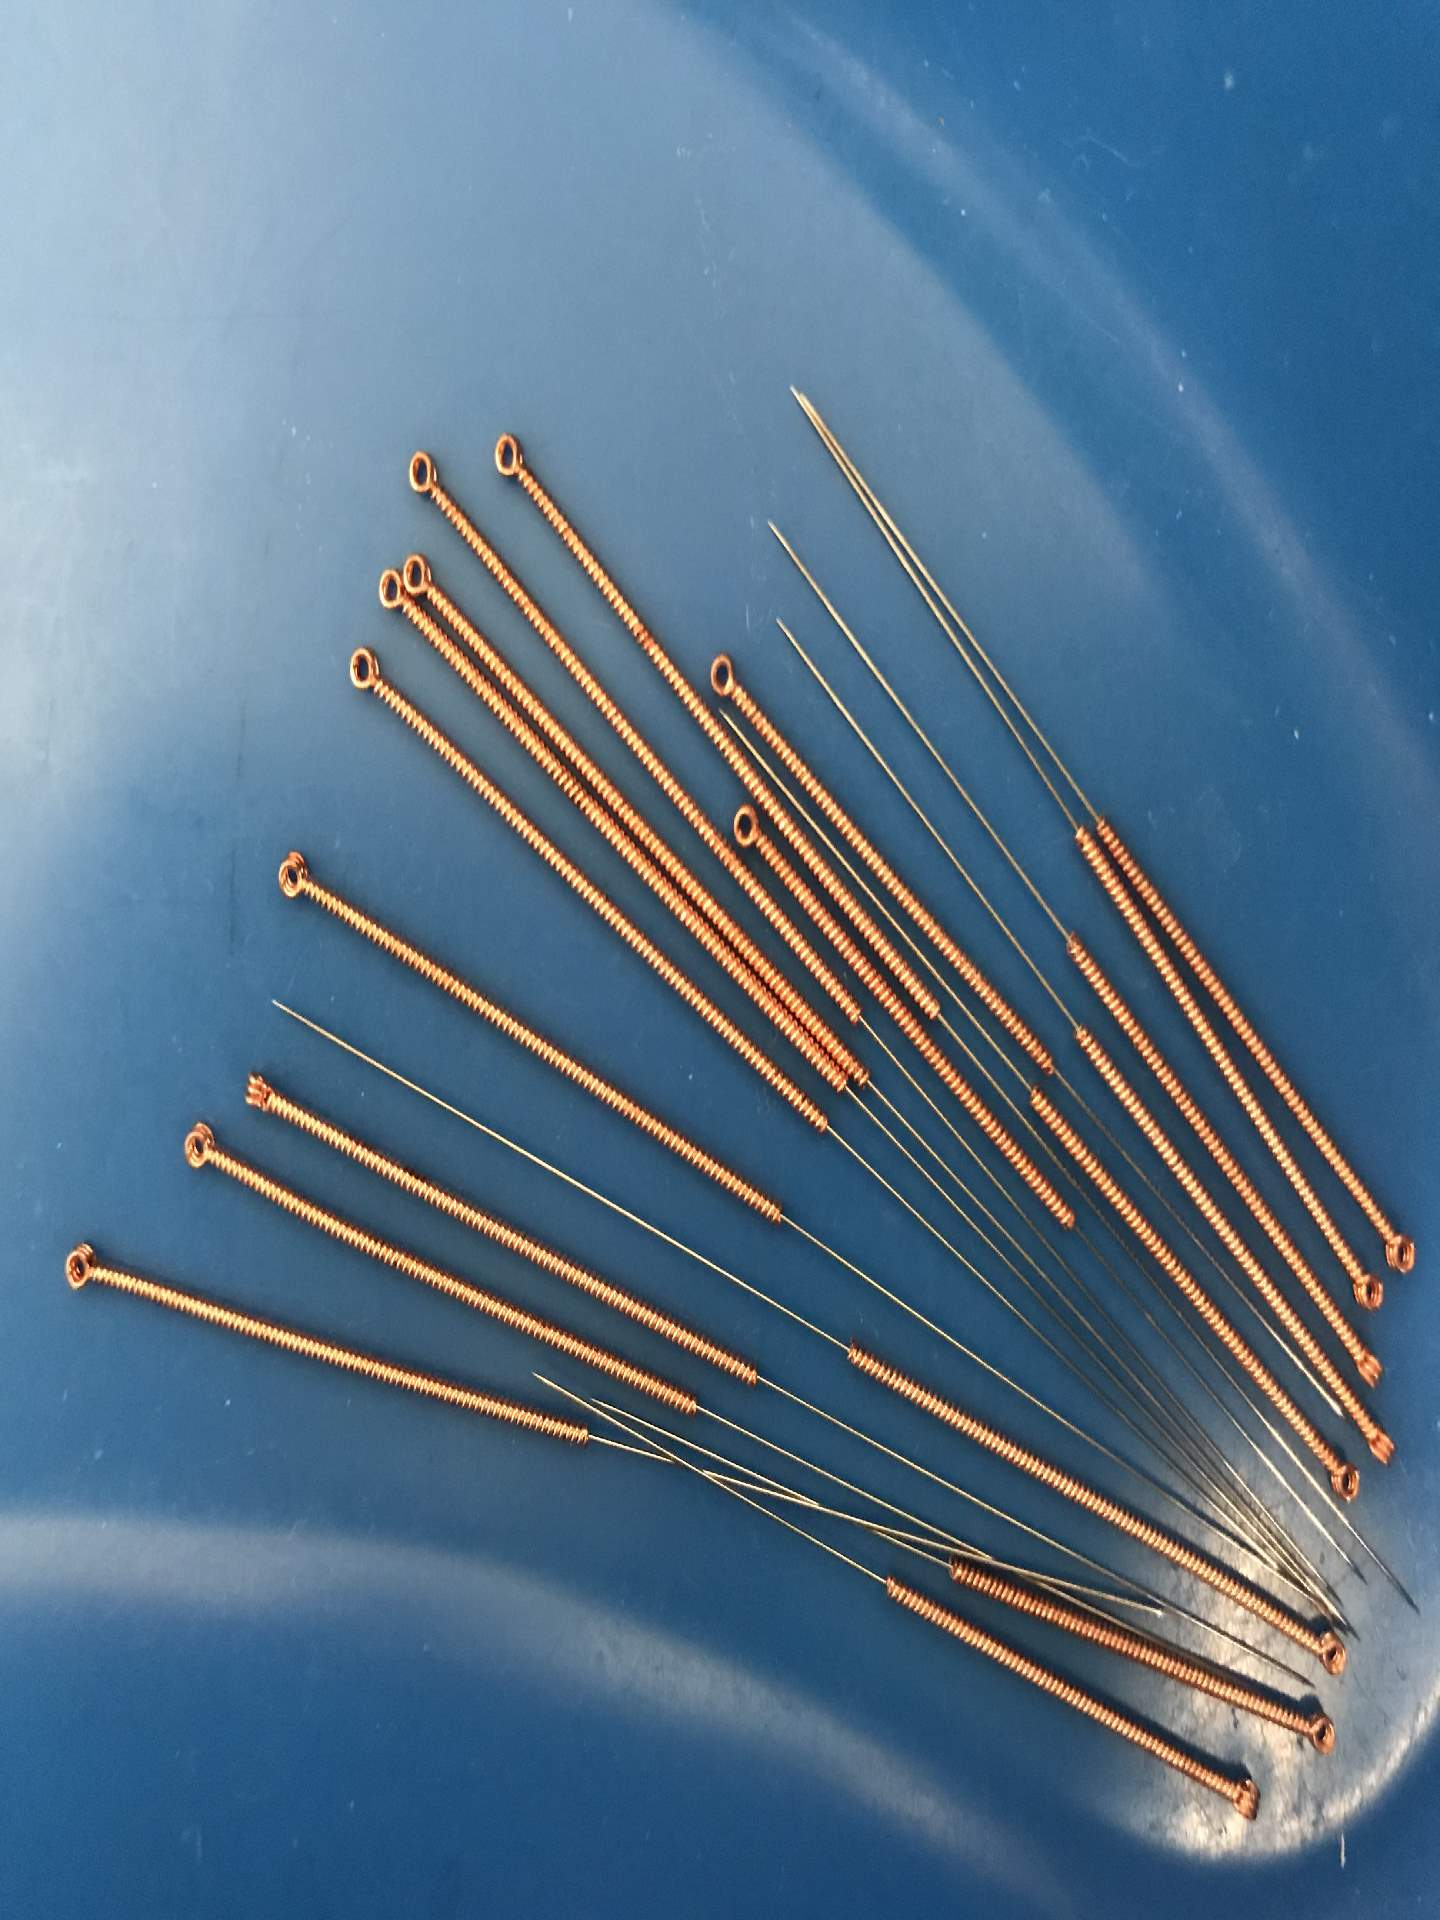needle: (47, 1231, 113, 1308), (331, 633, 395, 711), (478, 420, 540, 494), (393, 437, 454, 513), (262, 841, 324, 912), (166, 1114, 227, 1181), (230, 1061, 290, 1125), (1289, 1699, 1346, 1763), (1311, 1442, 1367, 1507), (1299, 1621, 1357, 1683), (1215, 1766, 1271, 1829), (697, 644, 750, 711), (1372, 1214, 1423, 1282), (1352, 1412, 1407, 1474), (1339, 1256, 1389, 1321), (1342, 1333, 1392, 1392), (398, 547, 443, 608), (725, 800, 768, 859), (366, 559, 408, 618)
